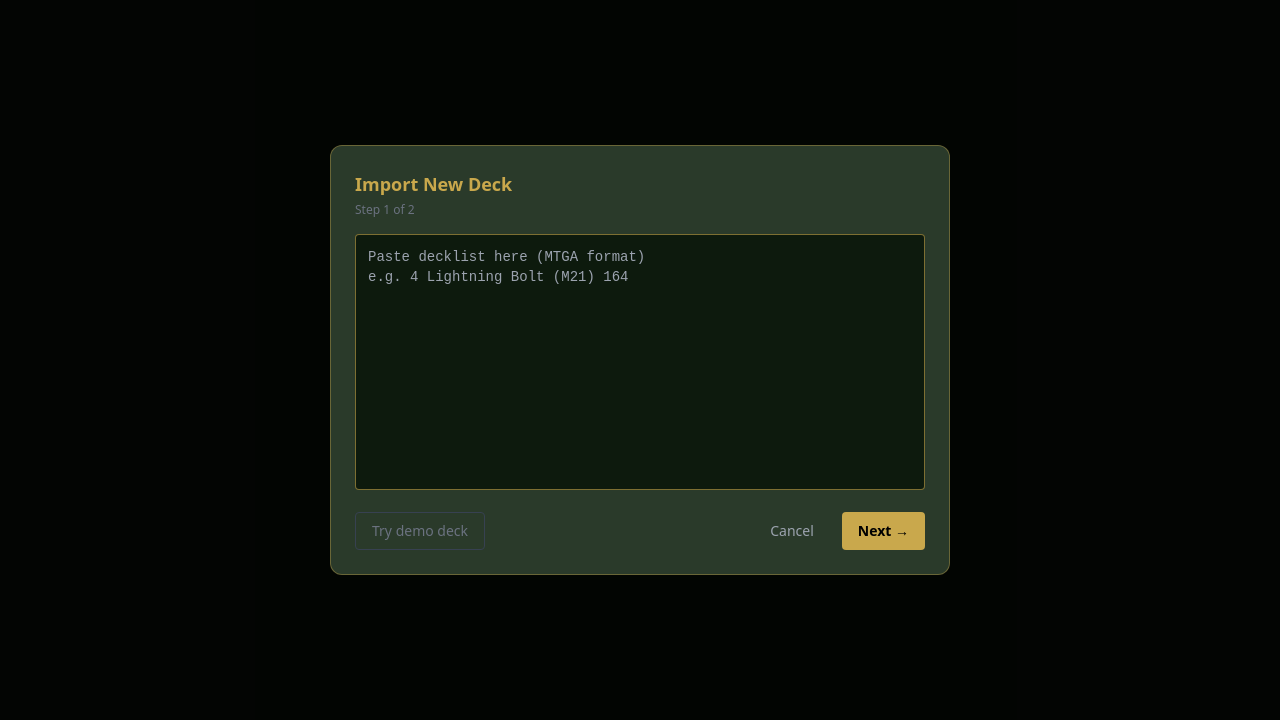
Test: StartGameWizard › back button returns to step 1
Type "1 Forest" into the text box with test id "decklist-input" at (640, 362), box [355, 234, 925, 490]
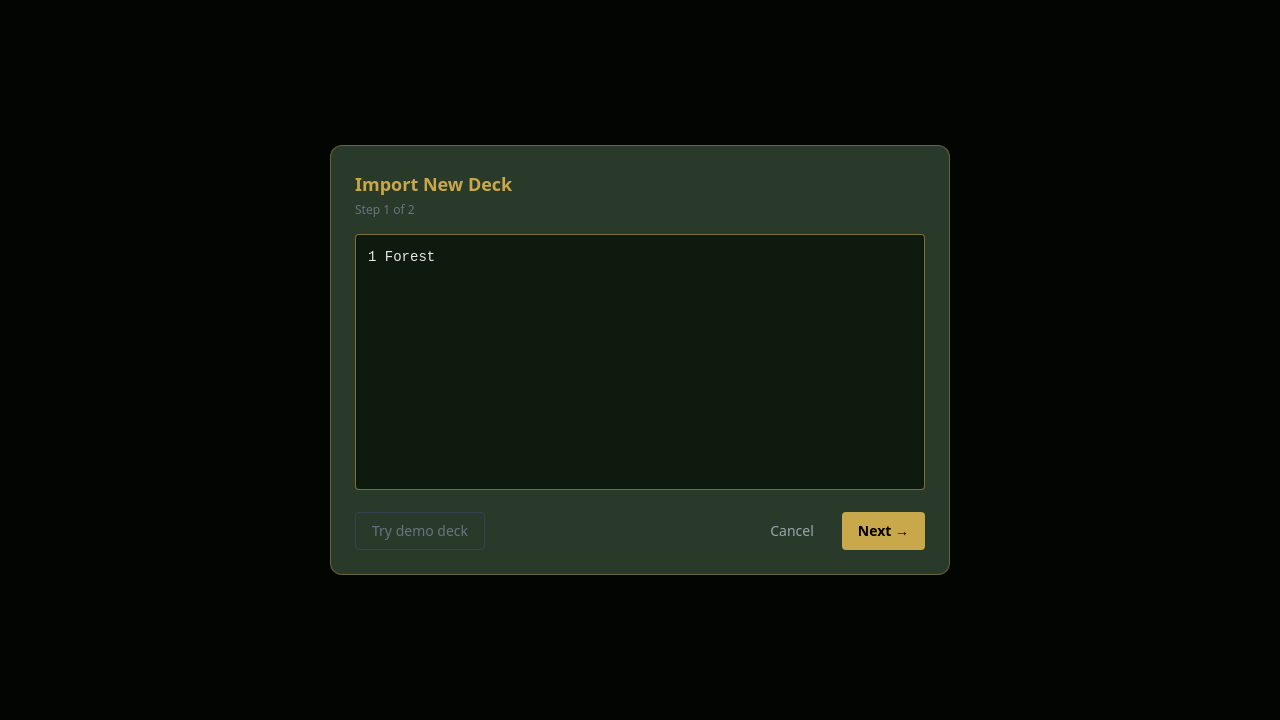
Click the button "Next →" at (883, 531), box [842, 512, 925, 550]
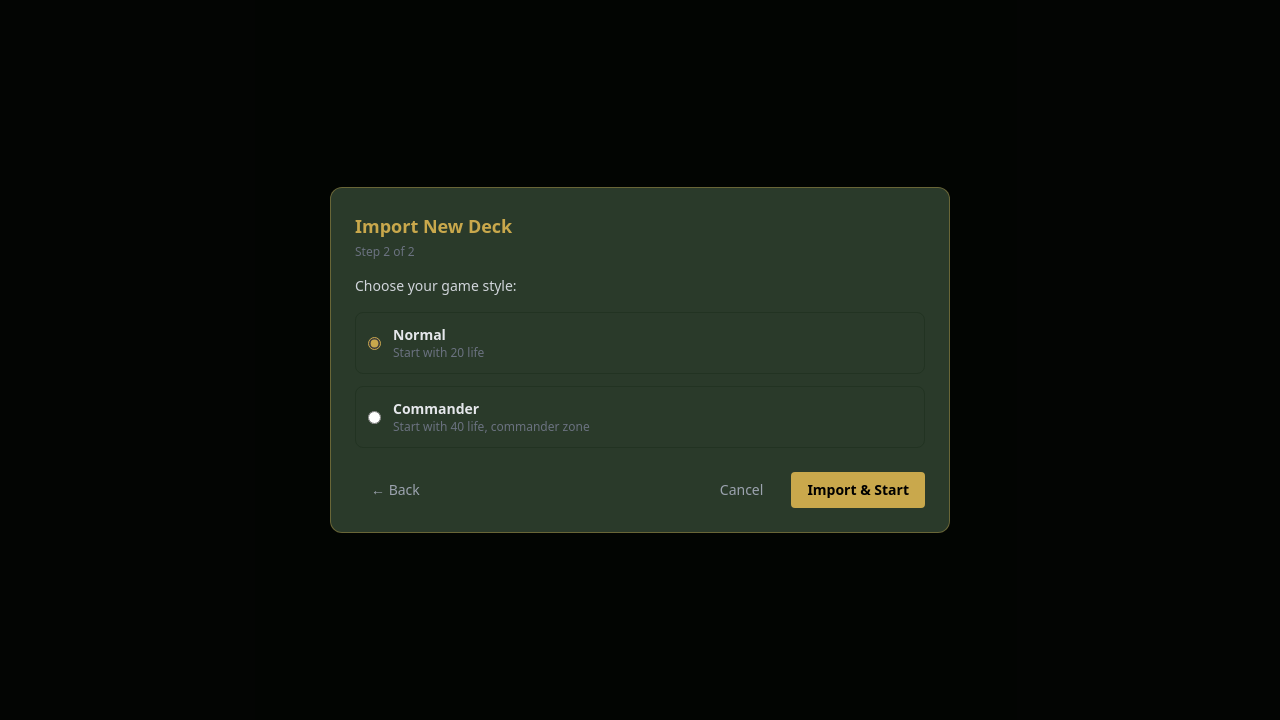
Click the button "← Back" at (395, 490), box [355, 472, 436, 508]
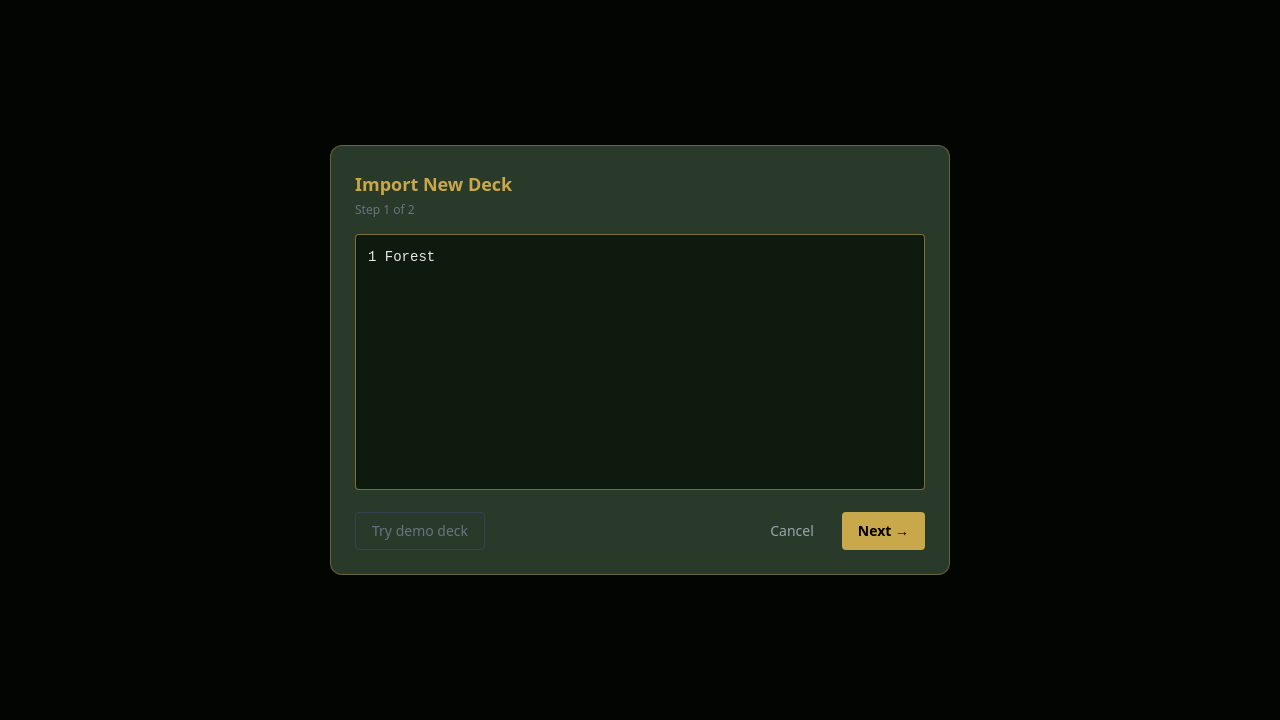
Result: the text box with test id "decklist-input" is shown at [355, 234, 925, 490]
